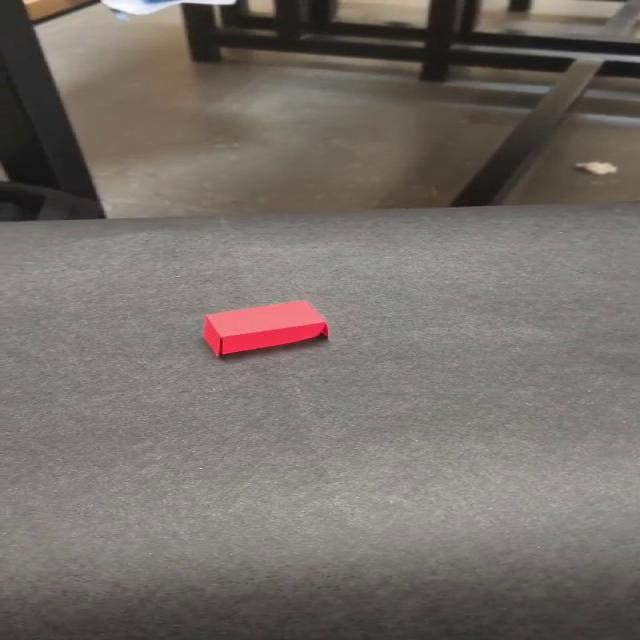red block: (202, 299, 330, 357)
